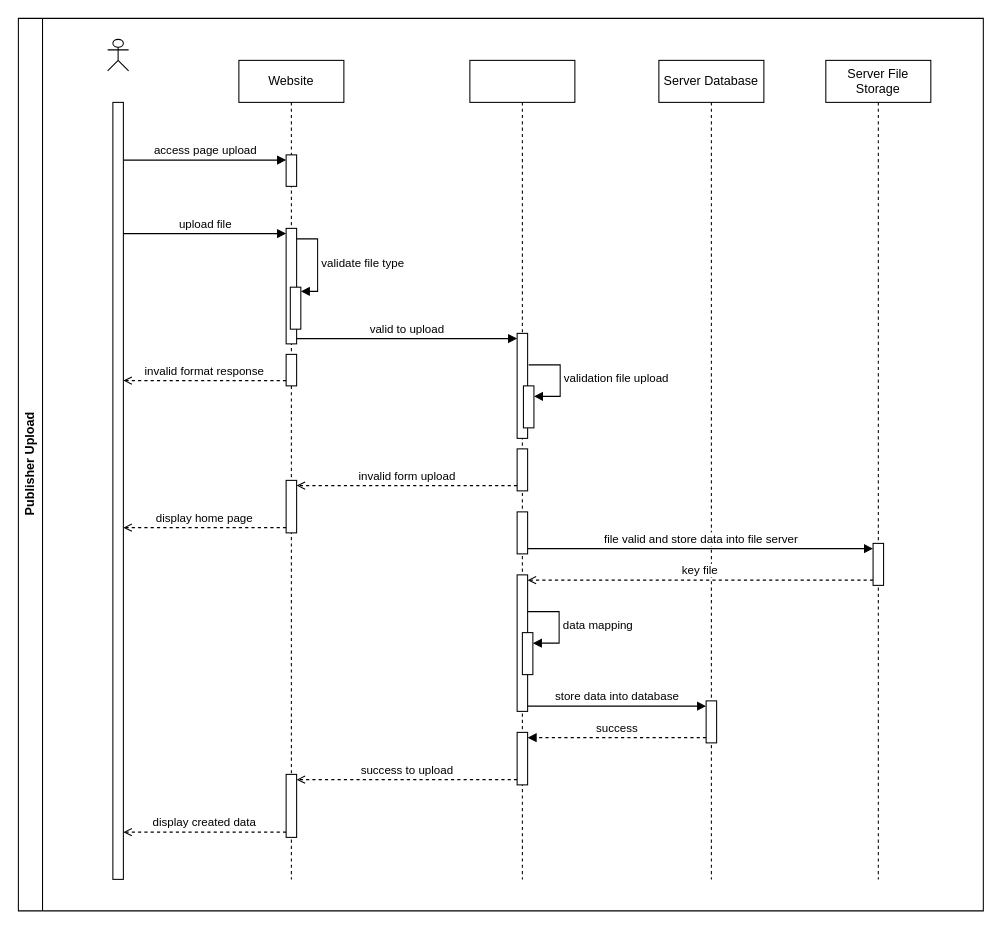
Image size: 1002x929. Some labels were removed from this diagram. Here are the shapes that lost their labels. From the top down, the centre of each, then its label:
At (118,54): "Publisher".
At (522,469): "Backend Service".
